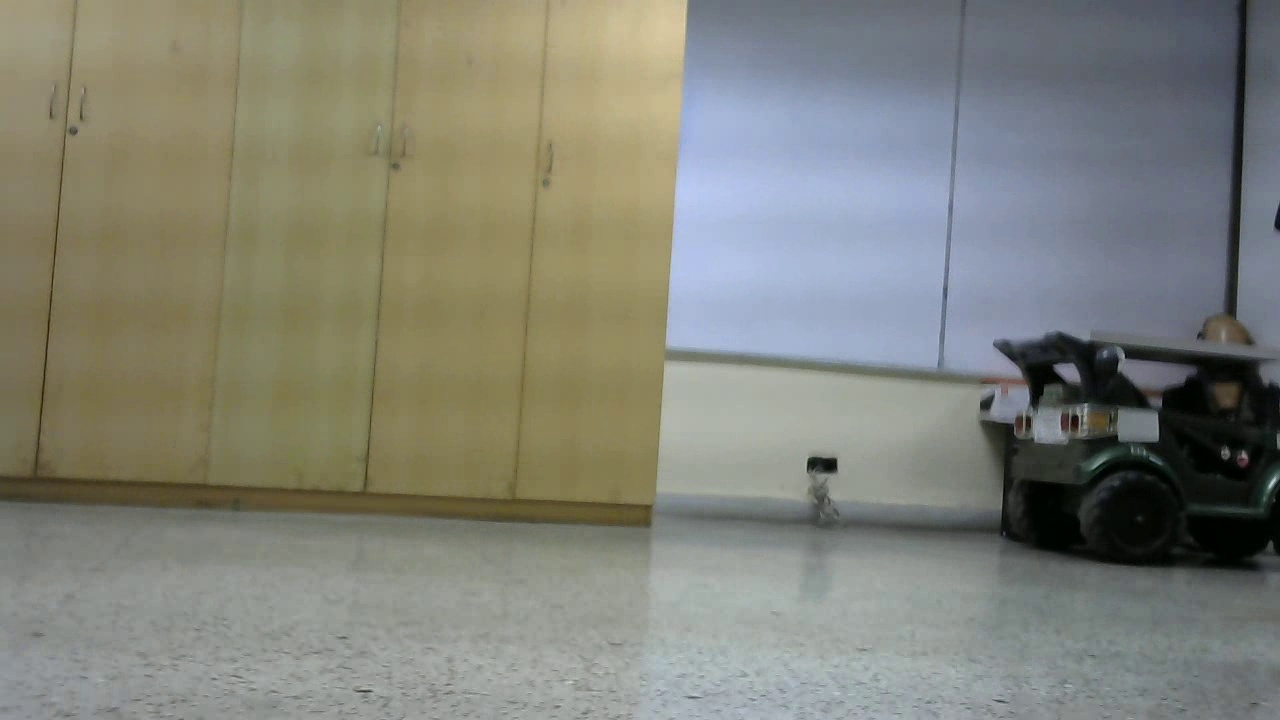chair: (975, 63, 1280, 679), (416, 94, 686, 569)
